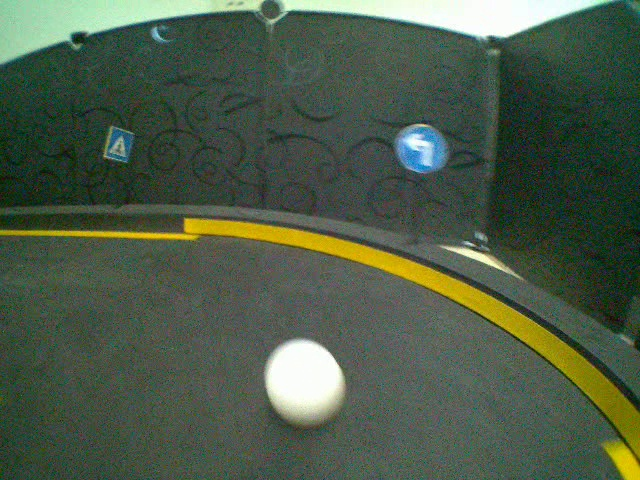ball: (264, 338, 347, 428)
